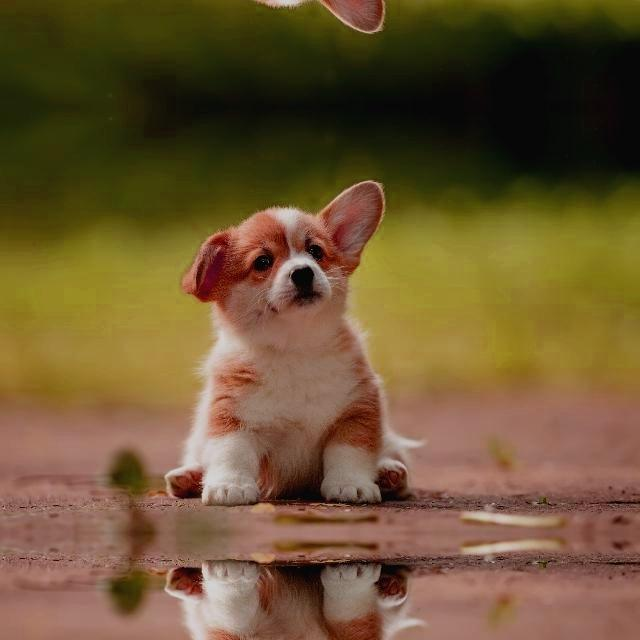dog: (175, 158, 387, 374), (175, 0, 387, 54)
